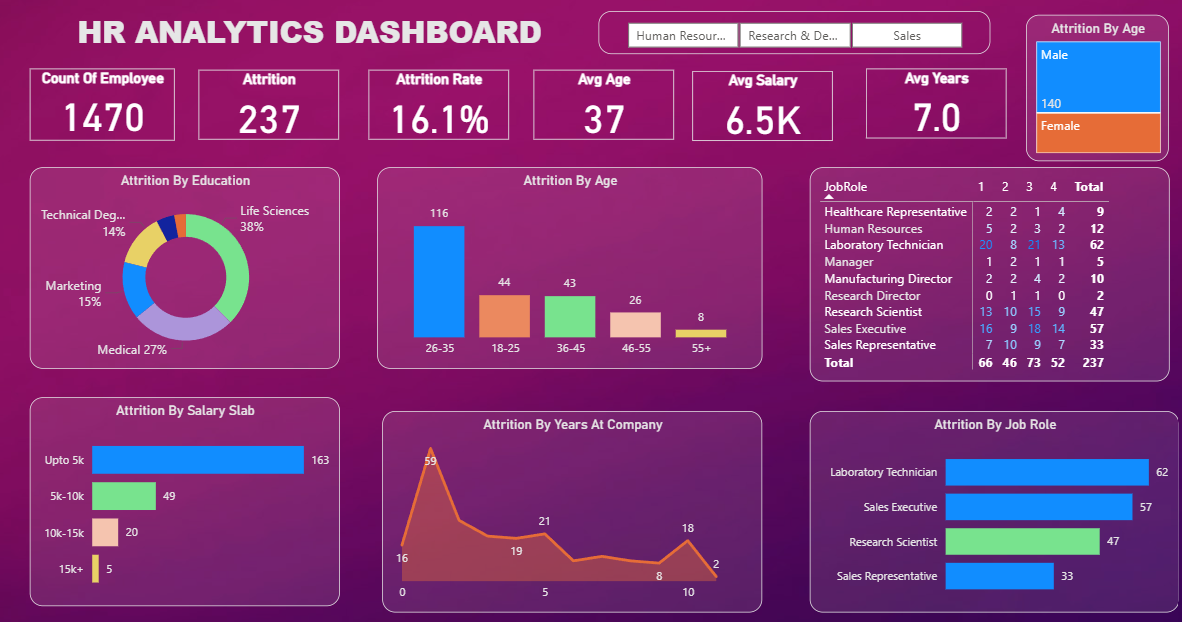

The page's visual inventory and layout, read from the dashboard file:
{"tool":"powerbi","page":{"name":"Page 1","canvas":[1280,720],"ordinal":0},"visuals":[{"type":"card","title":"Count Of Employee","fields":{"Values":["CountNonNull(HR_Analytics.EmpID)"]},"box":[35.7,120.8,149.6,75.5],"z":0},{"type":"card","title":"Attrition","fields":{"Values":["Sum(HR_Analytics.AttritionCount)"]},"box":[218.2,122.1,150.9,75.5],"z":1000},{"type":"card","title":"Attrition Rate","fields":{"Values":["HR_Analytics.AttritionRate"]},"box":[400.7,122.1,150.9,75.5],"z":2000},{"type":"card","title":"Avg Age","fields":{"Values":["Avg(HR_Analytics.Age)"]},"box":[577.7,122.1,150.9,75.5],"z":3000},{"type":"card","title":"Avg Salary","fields":{"Values":["Avg(HR_Analytics.MonthlyIncome)"]},"box":[749.2,123.5,150.9,75.5],"z":4000},{"type":"card","title":"Avg Years","fields":{"Values":["Avg(HR_Analytics.YearsAtCompany)"]},"box":[935.9,120.8,150.9,75.5],"z":5000},{"type":"donutChart","title":"Attrition By Education","fields":{"Category":["HR_Analytics.EducationField"],"Y":["Sum(HR_Analytics.AttritionCount)"]},"box":[35.7,227.8,333.4,216.8],"z":6000},{"type":"columnChart","title":"Attrition By Age","fields":{"Category":["HR_Analytics.AgeGroup"],"Y":["Sum(HR_Analytics.AttritionCount)"]},"box":[410.3,227.8,414.4,216.8],"z":7000},{"type":"pivotTable","fields":{"Rows":["HR_Analytics.JobRole"],"Columns":["HR_Analytics.JobSatisfaction"],"Values":["Sum(HR_Analytics.AttritionCount)"]},"box":[875.5,227.8,387,230.5],"z":8000},{"type":"barChart","title":"Attrition By Salary Slab","fields":{"Category":["HR_Analytics.SalarySlab"],"Y":["Sum(HR_Analytics.AttritionCount)"]},"box":[35.7,474.8,333.4,225],"z":9000},{"type":"barChart","title":"Attrition By Job Role","fields":{"Category":["HR_Analytics.JobRole"],"Y":["Sum(HR_Analytics.AttritionCount)"]},"box":[875.5,489.9,397.9,216.8],"z":10000},{"type":"areaChart","title":"Attrition By Years At Company","fields":{"Category":["HR_Analytics.YearsAtCompany"],"Y":["Sum(HR_Analytics.AttritionCount)"]},"box":[415.8,489.9,408.9,216.8],"z":11000},{"type":"treemap","title":"Attrition By Age","fields":{"Group":["HR_Analytics.Gender"],"Values":["Sum(HR_Analytics.AttritionCount)"]},"box":[1108.8,63.1,153.7,157.8],"z":12000},{"type":"slicer","fields":{"Values":["HR_Analytics.Department"]},"box":[647.7,59,421.3,46.7],"z":13000},{"type":"textbox","box":[22,53.5,631.2,56.3],"z":14000}]}

Visuals, with their boxes on the page's 1280x720 design canvas (x1, y1, x2, y2). These are canvas units, not pixel positions in the 1182x622 screenshot, which may show the page scaled, cropped or inside an application window:
"Count Of Employee" card: bbox=(36, 121, 185, 196)
"Attrition" card: bbox=(218, 122, 369, 198)
"Attrition Rate" card: bbox=(401, 122, 552, 198)
"Avg Age" card: bbox=(578, 122, 729, 198)
"Avg Salary" card: bbox=(749, 124, 900, 199)
"Avg Years" card: bbox=(936, 121, 1087, 196)
"Attrition By Education" donutChart: bbox=(36, 228, 369, 445)
"Attrition By Age" columnChart: bbox=(410, 228, 825, 445)
pivotTable - HR_Analytics.JobRole x HR_Analytics.JobSatisfaction: bbox=(876, 228, 1262, 458)
"Attrition By Salary Slab" barChart: bbox=(36, 475, 369, 700)
"Attrition By Job Role" barChart: bbox=(876, 490, 1273, 707)
"Attrition By Years At Company" areaChart: bbox=(416, 490, 825, 707)
"Attrition By Age" treemap: bbox=(1109, 63, 1262, 221)
slicer - HR_Analytics.Department: bbox=(648, 59, 1069, 106)
textbox: bbox=(22, 54, 653, 110)
